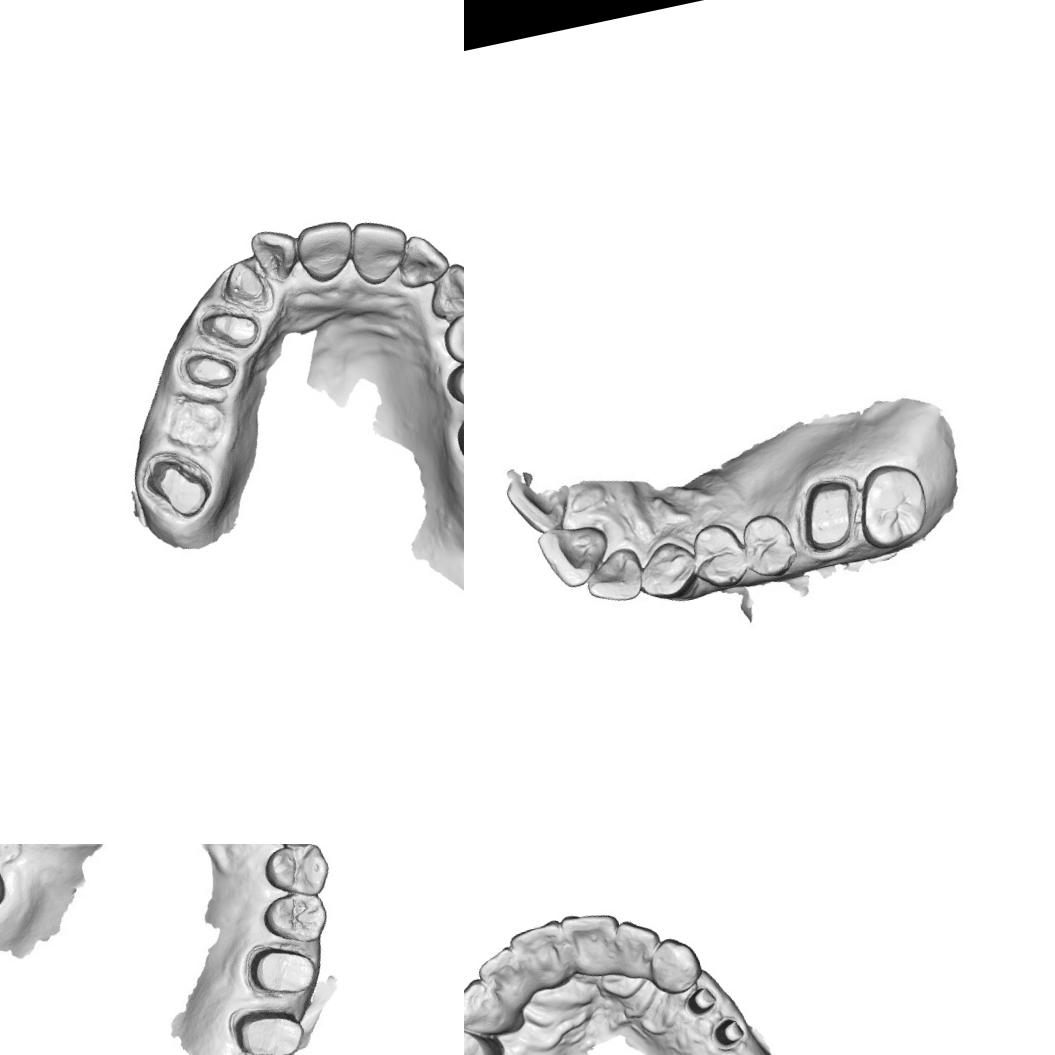abutment: (706, 1013, 749, 1055), (681, 984, 720, 1021)
canine: (630, 536, 700, 606), (644, 932, 706, 998), (421, 254, 464, 325), (464, 974, 505, 1044)
crown: (789, 473, 866, 557), (140, 446, 218, 528), (244, 936, 320, 1011), (192, 296, 266, 362), (225, 999, 310, 1055), (176, 341, 242, 399), (214, 254, 272, 314)
incisor: (342, 210, 416, 291), (534, 520, 614, 594), (290, 213, 364, 288), (559, 905, 629, 983), (506, 918, 574, 996), (246, 218, 312, 288), (579, 542, 649, 608), (388, 227, 455, 294), (608, 914, 666, 983), (473, 945, 527, 1017)
molar: (847, 456, 936, 552)
premolar: (256, 883, 334, 951), (688, 517, 751, 594), (736, 506, 798, 580), (258, 844, 334, 903), (436, 301, 464, 370), (440, 349, 464, 417), (464, 1018, 499, 1055)
